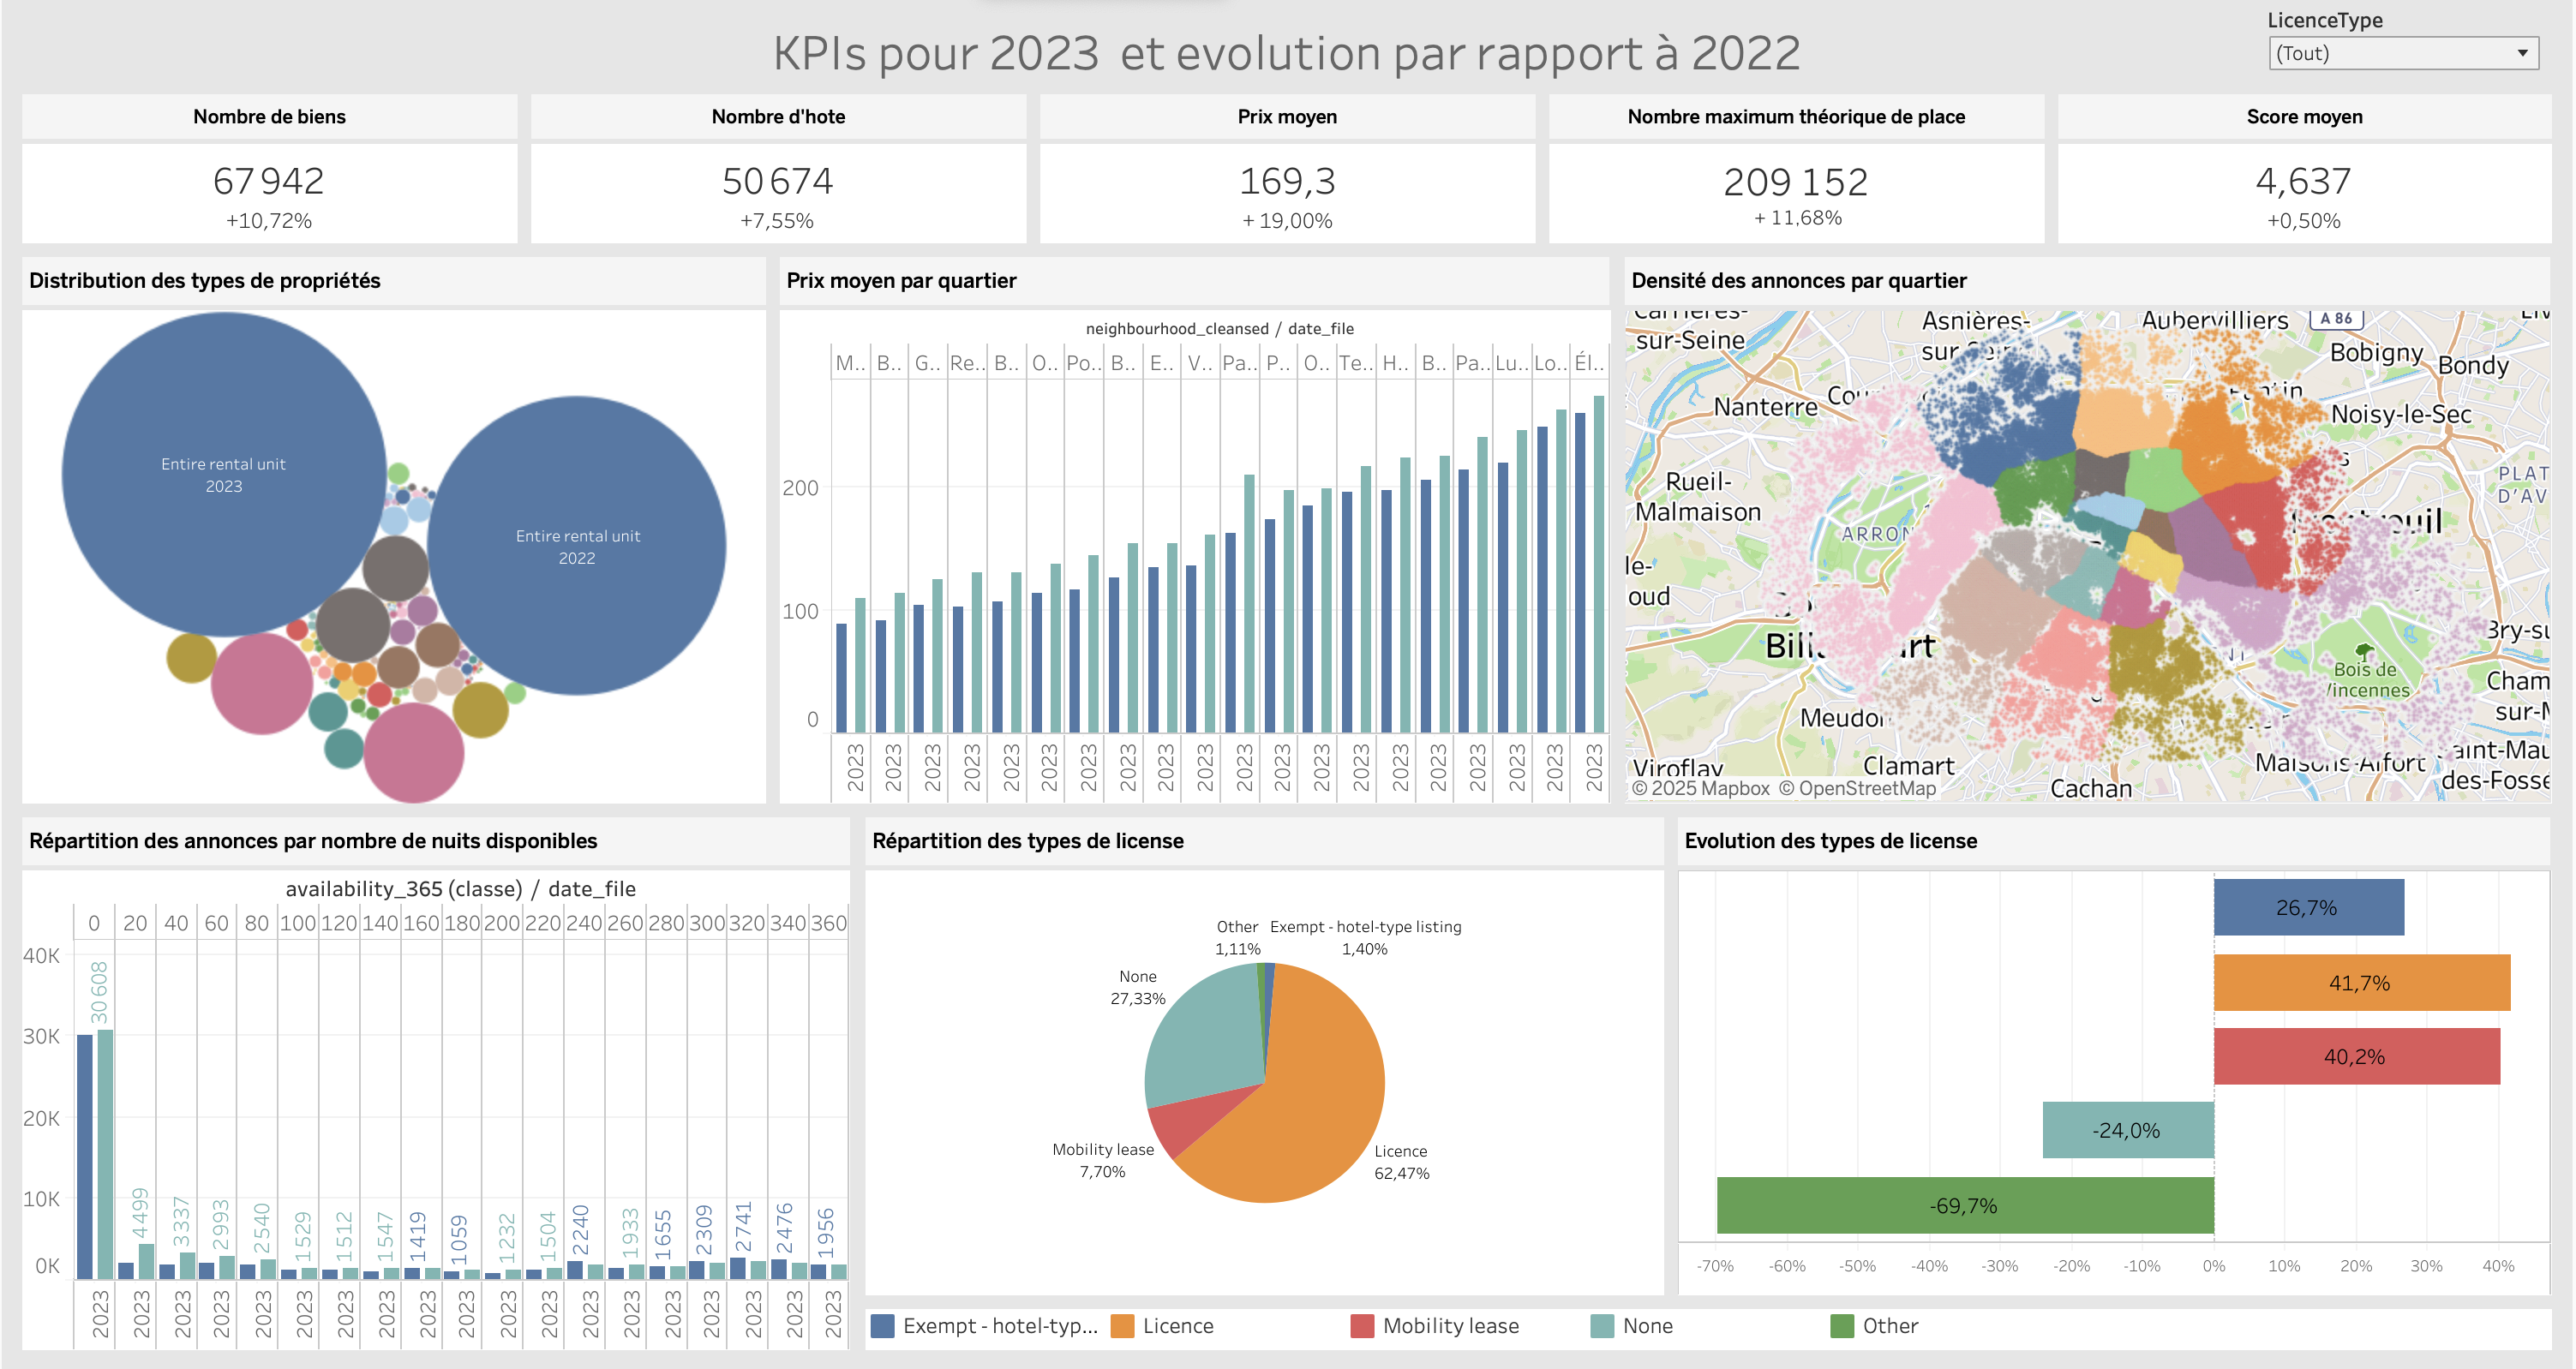

The page's visual inventory and layout, read from the dashboard file:
{"tool":"tableau","page":{"name":"Airbnb Dashboard","canvas":[1500,800],"ordinal":0},"visuals":[{"type":"worksheet","title":"Nb de log","mark":"Automatic","cols":["date_file"],"box":[8,8,297,106]},{"type":"worksheet","title":"Hote","mark":"Automatic","cols":["date_file"],"box":[305,8,297,106]},{"type":"worksheet","title":"Prix moyen par nuit","mark":"Automatic","cols":["date_file"],"box":[602,8,297,106]},{"type":"worksheet","title":"Personnes logés","mark":"Automatic","cols":["date_file"],"box":[899,8,297,106]},{"type":"worksheet","title":"Review","mark":"Automatic","cols":["date_file"],"box":[1196,8,296,106]},{"type":"worksheet","title":"Distribution des types de propriétés ","mark":"Circle","box":[8,146,442,327]},{"type":"worksheet","title":"Prix moyen par quartier ","mark":"Automatic","rows":["price"],"cols":["neighbourhood_cleansed","date_file"],"box":[450,146,493,327]},{"type":"worksheet","title":"Densité des annonces par quartier","mark":"Automatic","rows":["latitude"],"cols":["longitude"],"box":[943,146,549,327]},{"type":"blank","box":[8,473,1484,32]},{"type":"worksheet","title":"Disponibilite des logements","mark":"Bar","rows":["id"],"cols":["availability_365 (classe)","date_file"],"box":[8,505,442,287]},{"type":"worksheet","title":"Répartition des types de license","mark":"Pie","cols":["date_file"],"box":[450,505,492,287]},{"type":"worksheet","title":"Evolution des types de license","mark":"Automatic","rows":["date_file"],"cols":["Calculation_463589351112065024"],"box":[942,505,550,287]}]}

Visuals, with their boxes in screenshot pixels (x1, y1, x2, y2), scaled from the page's 1500x800 canvas onto the 2576x1369 screenshot:
"Nb de log" worksheet: Rect(14, 14, 524, 195)
"Hote" worksheet: Rect(524, 14, 1033, 195)
"Prix moyen par nuit" worksheet: Rect(1033, 14, 1544, 195)
"Personnes logés" worksheet: Rect(1544, 14, 2054, 195)
"Review" worksheet: Rect(2054, 14, 2562, 195)
"Distribution des types de propriétés " worksheet (Circle marks): Rect(14, 250, 773, 810)
"Prix moyen par quartier " worksheet: Rect(773, 250, 1620, 810)
"Densité des annonces par quartier" worksheet: Rect(1620, 250, 2562, 810)
blank: Rect(14, 810, 2562, 864)
"Disponibilite des logements" worksheet (Bar marks): Rect(14, 864, 773, 1355)
"Répartition des types de license" worksheet (Pie marks): Rect(773, 864, 1618, 1355)
"Evolution des types de license" worksheet: Rect(1618, 864, 2562, 1355)
